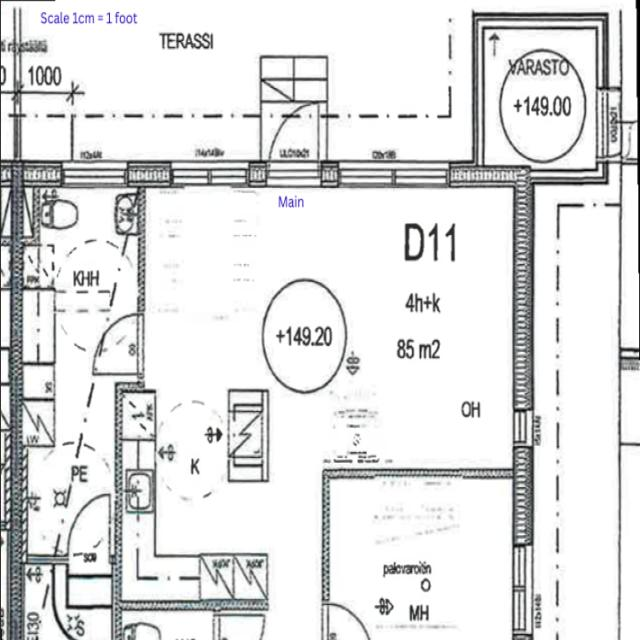main: (255, 94, 330, 207)
wall: (505, 156, 541, 414), (442, 156, 537, 194), (511, 437, 538, 549), (1, 154, 68, 191), (121, 155, 179, 192)
